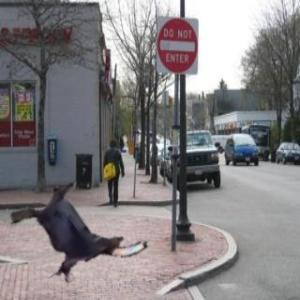drone: (6, 162, 144, 300)
